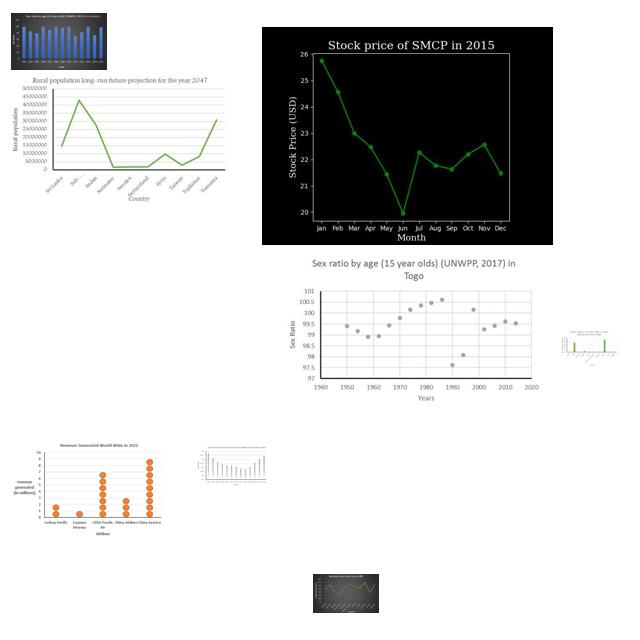Graph: (262, 27, 553, 245), (283, 256, 544, 404), (12, 75, 228, 203), (13, 442, 163, 537), (11, 13, 107, 70), (196, 445, 268, 487), (313, 574, 379, 613), (560, 330, 618, 367)
